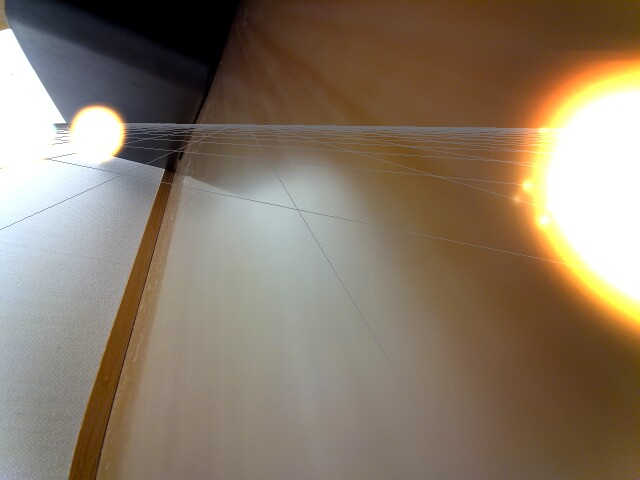firebig: (509, 41, 640, 335)
